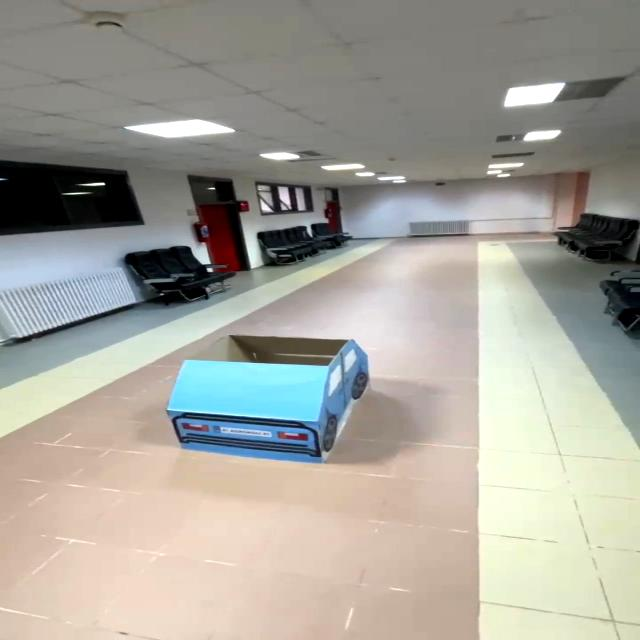blue_car: (149, 326, 380, 473)
